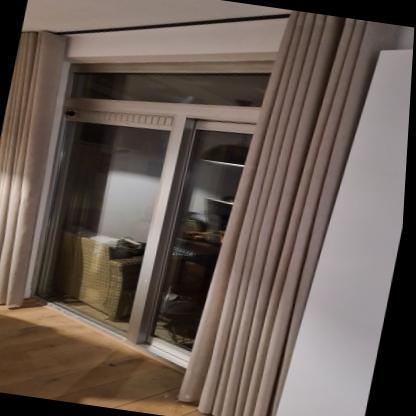Curtains: (182, 9, 415, 416), (0, 30, 66, 308)
